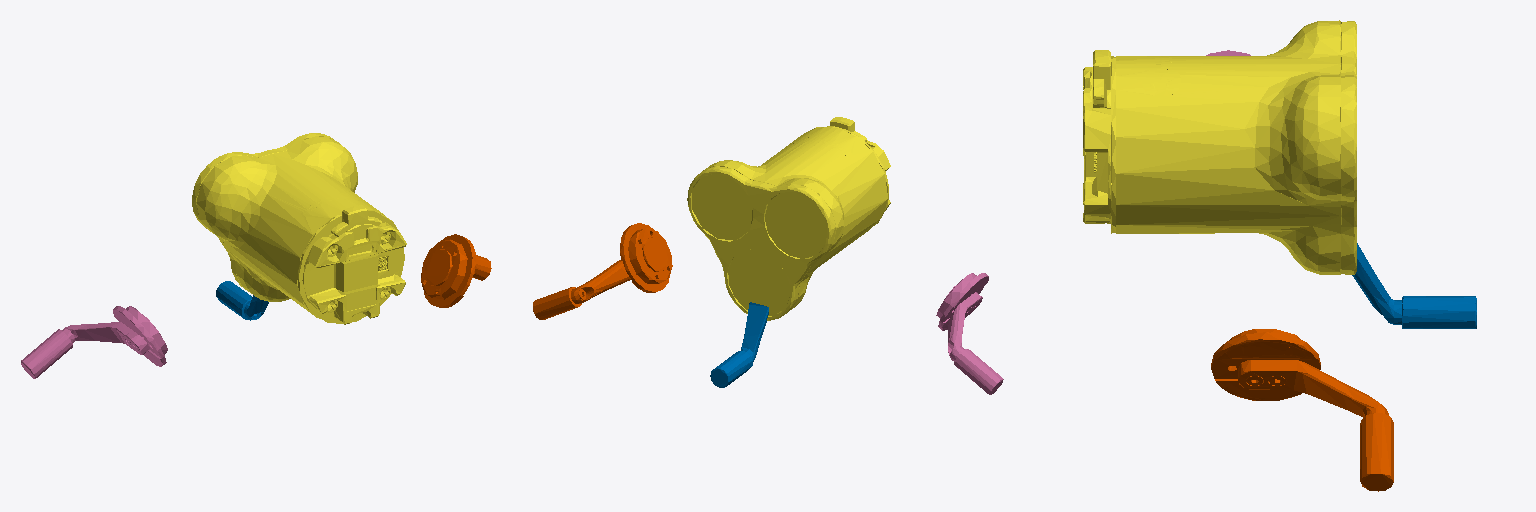
The robot description file, URDF, robot "ur5e":
<?xml version="1.0"?>
<robot name="ur5e">
    <transmission name="shoulder_pan_trans">
        <type>transmission_interface/SimpleTransmission</type>
        <joint name="shoulder_pan_joint">
            <hardwareInterface>hardware_interface/PositionJointInterface</hardwareInterface>
        </joint>
        <actuator name="shoulder_pan_motor">
            <mechanicalReduction>1</mechanicalReduction>
            <hardwareInterface>hardware_interface/EffortJointInterface</hardwareInterface>
        </actuator>
    </transmission>
    <transmission name="shoulder_lift_trans">
        <type>transmission_interface/SimpleTransmission</type>
        <joint name="shoulder_lift_joint">
            <hardwareInterface>hardware_interface/PositionJointInterface</hardwareInterface>
        </joint>
        <actuator name="shoulder_lift_motor">
            <mechanicalReduction>1</mechanicalReduction>
            <hardwareInterface>hardware_interface/EffortJointInterface</hardwareInterface>
        </actuator>
    </transmission>
    <transmission name="elbow_trans">
        <type>transmission_interface/SimpleTransmission</type>
        <joint name="elbow_joint">
            <hardwareInterface>hardware_interface/PositionJointInterface</hardwareInterface>
        </joint>
        <actuator name="elbow_motor">
            <mechanicalReduction>1</mechanicalReduction>
            <hardwareInterface>hardware_interface/EffortJointInterface</hardwareInterface>
        </actuator>
    </transmission>
    <transmission name="wrist_1_trans">
        <type>transmission_interface/SimpleTransmission</type>
        <joint name="wrist_1_joint">
            <hardwareInterface>hardware_interface/PositionJointInterface</hardwareInterface>
        </joint>
        <actuator name="wrist_1_motor">
            <mechanicalReduction>1</mechanicalReduction>
            <hardwareInterface>hardware_interface/EffortJointInterface</hardwareInterface>
        </actuator>
    </transmission>
    <transmission name="wrist_2_trans">
        <type>transmission_interface/SimpleTransmission</type>
        <joint name="wrist_2_joint">
            <hardwareInterface>hardware_interface/PositionJointInterface</hardwareInterface>
        </joint>
        <actuator name="wrist_2_motor">
            <mechanicalReduction>1</mechanicalReduction>
            <hardwareInterface>hardware_interface/EffortJointInterface</hardwareInterface>
        </actuator>
    </transmission>
    <transmission name="wrist_3_trans">
        <type>transmission_interface/SimpleTransmission</type>
        <joint name="wrist_3_joint">
            <hardwareInterface>hardware_interface/PositionJointInterface</hardwareInterface>
        </joint>
        <actuator name="wrist_3_motor">
            <mechanicalReduction>1</mechanicalReduction>
            <hardwareInterface>hardware_interface/EffortJointInterface</hardwareInterface>
        </actuator>
    </transmission>
    <!-- links: main serial chain -->
    <link name="world" />
    <joint name="virtual_joint" type="fixed">
        <parent link="world" />
        <child link="base_link" />
    </joint>
    <link name="base_link" />
    <link name="base_link_inertia">
        <visual>
            <origin rpy="0 0 3.141592653589793" xyz="0 0 0" />
            <geometry>
                <mesh filename="package://ur5e_urdf/meshes/ur5e/visual/base.dae" />
            </geometry>
            <material name="LightGrey">
                <color rgba="0.7 0.7 0.7 1.0" />
            </material>
        </visual>
        <collision>
            <origin rpy="0 0 3.141592653589793" xyz="0 0 0" />
            <geometry>
                <mesh filename="package://ur5e_urdf/meshes/ur5e/collision/base.stl" />
            </geometry>
        </collision>
        <inertial>
            <mass value="4.0" />
            <origin rpy="0 0 0" xyz="0 0 0" />
            <inertia ixx="0.00443333156" ixy="0.0" ixz="0.0" iyy="0.00443333156" iyz="0.0"
                izz="0.0072" />
        </inertial>
    </link>
    <link name="shoulder_link">
        <visual>
            <origin rpy="0 0 3.141592653589793" xyz="0 0 0" />
            <geometry>
                <mesh filename="package://ur5e_urdf/meshes/ur5e/visual/shoulder.dae" />
            </geometry>
            <material name="LightGrey">
                <color rgba="0.7 0.7 0.7 1.0" />
            </material>
        </visual>
        <collision>
            <origin rpy="0 0 3.141592653589793" xyz="0 0 0" />
            <geometry>
                <mesh filename="package://ur5e_urdf/meshes/ur5e/collision/shoulder.stl" />
            </geometry>
        </collision>
        <inertial>
            <mass value="3.7" />
            <origin rpy="0 0 0" xyz="0 0 0" />
            <inertia ixx="0.010267495893" ixy="0.0" ixz="0.0" iyy="0.010267495893" iyz="0.0"
                izz="0.00666" />
        </inertial>
    </link>

    <link name="upper_arm_link">
        <visual>
            <origin rpy="1.5707963267948966 0 -1.5707963267948966" xyz="0 0 0.138" />
            <geometry>
                <mesh filename="package://ur5e_urdf/meshes/ur5e/visual/upperarm.dae" />
            </geometry>
            <material name="LightGrey">
                <color rgba="0.7 0.7 0.7 1.0" />
            </material>
        </visual>
        <collision>
            <origin rpy="1.5707963267948966 0 -1.5707963267948966" xyz="0 0 0.138" />
            <geometry>
                <mesh filename="package://ur5e_urdf/meshes/ur5e/collision/upperarm.stl" />
            </geometry>
        </collision>
        <inertial>
            <mass value="8.393" />
            <origin rpy="0 1.5707963267948966 0" xyz="-0.2125 0.0 0.138" />
            <inertia ixx="0.1338857818623325" ixy="0.0" ixz="0.0" iyy="0.1338857818623325" iyz="0.0"
                izz="0.0151074" />
        </inertial>
    </link>

    <link name="forearm_link">
        <visual>
            <origin rpy="1.5707963267948966 0 -1.5707963267948966" xyz="0 0 0.007" />
            <geometry>
                <mesh filename="package://ur5e_urdf/meshes/ur5e/visual/forearm.dae" />
            </geometry>
            <material name="LightGrey">
                <color rgba="0.7 0.7 0.7 1.0" />
            </material>
        </visual>
        <collision>
            <origin rpy="1.5707963267948966 0 -1.5707963267948966" xyz="0 0 0.007" />
            <geometry>
                <mesh filename="package://ur5e_urdf/meshes/ur5e/collision/forearm.stl" />
            </geometry>
        </collision>
        <inertial>
            <mass value="2.275" />
            <origin rpy="0 1.5707963267948966 0" xyz="-0.1961 0.0 0.007" />
            <inertia ixx="0.031209355099586295" ixy="0.0" ixz="0.0" iyy="0.031209355099586295"
                iyz="0.0" izz="0.004095" />
        </inertial>
    </link>
    <link name="wrist_1_link">
        <visual>
            <!-- TODO: Move this to a parameter -->
            <origin rpy="1.5707963267948966 0 0" xyz="0 0 -0.127" />
            <geometry>
                <mesh filename="package://ur5e_urdf/meshes/ur5e/visual/wrist1.dae" />
            </geometry>
            <material name="LightGrey">
                <color rgba="0.7 0.7 0.7 1.0" />
            </material>
        </visual>
        <collision>
            <origin rpy="1.5707963267948966 0 0" xyz="0 0 -0.127" />
            <geometry>
                <mesh filename="package://ur5e_urdf/meshes/ur5e/collision/wrist1.stl" />
            </geometry>
        </collision>
        <inertial>
            <mass value="1.219" />
            <origin rpy="0 0 0" xyz="0 0 0" />
            <inertia ixx="0.0025598989760400002" ixy="0.0" ixz="0.0" iyy="0.0025598989760400002"
                iyz="0.0" izz="0.0021942" />
        </inertial>
    </link>
    <link name="wrist_2_link">
        <visual>
            <origin rpy="0 0 0" xyz="0 0 -0.0997" />
            <geometry>
                <mesh filename="package://ur5e_urdf/meshes/ur5e/visual/wrist2.dae" />
            </geometry>
            <material name="LightGrey">
                <color rgba="0.7 0.7 0.7 1.0" />
            </material>
        </visual>
        <collision>
            <origin rpy="0 0 0" xyz="0 0 -0.0997" />
            <geometry>
                <mesh filename="package://ur5e_urdf/meshes/ur5e/collision/wrist2.stl" />
            </geometry>
        </collision>
        <inertial>
            <mass value="1.219" />
            <origin rpy="0 0 0" xyz="0 0 0" />
            <inertia ixx="0.0025598989760400002" ixy="0.0" ixz="0.0" iyy="0.0025598989760400002"
                iyz="0.0" izz="0.0021942" />
        </inertial>
    </link>
    <link name="wrist_3_link">
        <visual>
            <origin rpy="1.5707963267948966 0 0" xyz="0 0 -0.0989" />
            <geometry>
                <mesh filename="package://ur5e_urdf/meshes/ur5e/visual/wrist3.dae" />
            </geometry>
            <material name="LightGrey">
                <color rgba="0.7 0.7 0.7 1.0" />
            </material>
        </visual>
        <collision>
            <origin rpy="1.5707963267948966 0 0" xyz="0 0 -0.0989" />
            <geometry>
                <mesh filename="package://ur5e_urdf/meshes/ur5e/collision/wrist3.stl" />
            </geometry>
        </collision>
        <inertial>
            <mass value="0.1879" />
            <origin rpy="0 0 0" xyz="0.0 0.0 -0.0229" />
            <inertia ixx="9.890410052167731e-05" ixy="0.0" ixz="0.0" iyy="9.890410052167731e-05"
                iyz="0.0" izz="0.0001321171875" />
        </inertial>
    </link>
    <!-- joints: main serial chain -->
    <joint name="base_link-base_link_inertia" type="fixed">
        <parent link="base_link" />
        <child link="base_link_inertia" />
        <!-- 'base_link' is REP-103 aligned (so X+ forward), while the internal
           frames of
        the robot/controller have X+ pointing backwards.
           Use the joint between
        'base_link' and 'base_link_inertia' (a dummy
           link/frame) to introduce the
        necessary rotation over Z (of pi rad).
      -->
        <origin rpy="0 0 3.141592653589793" xyz="0 0 0" />
    </joint>
    <joint name="shoulder_pan_joint" type="revolute">
        <parent link="base_link_inertia" />
        <child link="shoulder_link" />
        <origin rpy="0 0 0" xyz="0 0 0.1625" />
        <axis xyz="0 0 1" />
        <limit effort="150.0" lower="-6.283185307179586" upper="6.283185307179586"
            velocity="3.141592653589793" />
        <dynamics damping="0" friction="0" />
    </joint>
    <joint name="shoulder_lift_joint" type="revolute">
        <parent link="shoulder_link" />
        <child link="upper_arm_link" />
        <origin rpy="1.570796327 0 0 " xyz="0 0 0" />
        <axis xyz="0 0 1" />
        <limit effort="150.0" lower="-6.283185307179586" upper="6.283185307179586"
            velocity="3.141592653589793" />
        <dynamics damping="0" friction="0" />
    </joint>
    <joint name="elbow_joint" type="revolute">
        <parent link="upper_arm_link" />
        <child link="forearm_link" />
        <origin rpy="0 0 0" xyz="-0.425 0 0" />
        <axis xyz="0 0 1" />
        <limit effort="150.0" lower="-6.283185307179586" upper="6.283185307179586"
            velocity="3.141592653589793" />
        <dynamics damping="0" friction="0" />
    </joint>
    <joint name="wrist_1_joint" type="revolute">
        <parent link="forearm_link" />
        <child link="wrist_1_link" />
        <origin rpy="0 0 0" xyz="-0.3922 0 0.1333" />
        <axis xyz="0 0 1" />
        <limit effort="28.0" lower="-6.283185307179586" upper="6.283185307179586"
            velocity="3.141592653589793" />
        <dynamics damping="0" friction="0" />
    </joint>
    <joint name="wrist_2_joint" type="revolute">
        <parent link="wrist_1_link" />
        <child link="wrist_2_link" />
        <origin rpy="1.570796327 0 0" xyz="0 -0.0997 -2.044881182297852e-11" />
        <axis xyz="0 0 1" />
        <limit effort="28.0" lower="-6.283185307179586" upper="6.283185307179586"
            velocity="3.141592653589793" />
        <dynamics damping="0" friction="0" />
    </joint>
    <joint name="wrist_3_joint" type="revolute">
        <parent link="wrist_2_link" />
        <child link="wrist_3_link" />
        <origin rpy="1.570796326589793 3.141592653589793 3.141592653589793"
            xyz="0 0.0996 -2.042830148012698e-11" />
        <axis xyz="0 0 1" />
        <limit effort="28.0" lower="-6.283185307179586" upper="6.283185307179586"
            velocity="3.141592653589793" />
        <dynamics damping="0" friction="0" />
    </joint>
    <!-- ROS-Industrial 'base' frame: base_link to UR 'Base' Coordinates transform -->
    <link name="base" />
    <joint name="base_link-base_fixed_joint" type="fixed">
        <!-- Note the rotation over Z of pi radians: as base_link is REP-103
           aligned (ie:
        has X+ forward, Y+ left and Z+ up), this is needed
           to correctly align 'base' with
        the 'Base' coordinate system of
           the UR controller.
      -->
        <origin rpy="0 0 3.141592653589793" xyz="0 0 0" />
        <parent link="base_link" />
        <child link="base" />
    </joint>



    <joint name="gripper_hanging" type="fixed">
        <origin xyz="0 0 0.0" rpy="0 0 0" />
        <parent link="wrist_3_link" />
        <child link="gripper_base" />
    </joint>
    
    <link name="gripper_base">
        <visual>
            <origin xyz="0.2275 0 0 " rpy="-1.570796327 0 0" />
            <geometry>
                <mesh filename="package://ur5e_urdf/meshes/ur5e/collision/gripper_base_up.stl"
                    scale="0.001 0.001 0.001" />
            </geometry>
        </visual>
        <collision>
            <origin xyz="0.2275 0 0" rpy="-1.570796327 0 0" />
            <geometry>
                <mesh filename="package://ur5e_urdf/meshes/ur5e/collision/gripper_base_up.stl"
                    scale="0.001 0.001 0.001" />
            </geometry>
        </collision>
    </link>
    
    
    <joint name="flange" type="fixed">
        <origin xyz="0 0 0.06" rpy="0 0 0" />
        <parent link="gripper_base" />
        <child link="gripper_base_down" />
    </joint>

    <link name="gripper_base_down">
        <visual>
            <origin xyz="0 0 0" rpy="-1.570796327 0 0" />
            <geometry>
                <mesh filename="package://ur5e_urdf/meshes/ur5e/collision/gripper_base_down2.stl"
                    scale="0.001 0.001 0.001" />
            </geometry>
        </visual>
        <collision>
            <origin xyz="0 0 0" rpy="-1.570796327 0 0" />
            <geometry>
                <mesh filename="package://ur5e_urdf/meshes/ur5e/collision/gripper_base_down2.stl"
                    scale="0.001 0.001 0.001" />
            </geometry>
        </collision>
    </link>
<!--###########################################-->
    <joint name="finger1_joint" type="revolute">
        <origin xyz="0.0  0.00 0.0 " rpy="-1.570796327 0 0"/>
        <parent link="gripper_base" />
        <child link="finger1_link" />
        <limit effort="50" velocity="10.0" lower="0" upper="3.14" />
    </joint>
    
    <link name="finger1_link">
        <inertial>
            <origin xyz="0.0 0.0 0.0" />
            <mass value="0.05" />
            <inertia ixx="0.001" ixy="0.0" ixz="0.0" iyy="0.001" iyz="0.0" izz="0.001" />
        </inertial>
        <visual>
            <origin xyz="0 -0.05 0.0 " rpy="0 0 0"/>
            <geometry>
                <mesh filename="package://ur5e_urdf/meshes/ur5e/collision/finger2.stl"
                    scale="0.001 0.001 0.001" />
            </geometry>
        </visual>
        <collision>
            <origin xyz="0 -0.05 0.00 " rpy="0 0 0"/>
            <geometry>
                <mesh filename="package://ur5e_urdf/meshes/ur5e/collision/finger2.stl"
                    scale="0.001 0.001 0.001" />
            </geometry>
        </collision>
    </link>
<!--###########################################-->
    <joint name="finger2_joint" type="revolute">
        <origin xyz="-0.012 0.0 0.015" rpy="-1.570796327 0 2.094"/>
        <!--<origin xyz="-0.013 0 0.015" rpy="-1.570796327 0 2.094"/>-->
        <parent link="gripper_base" />
        <child link="finger2_link" />
        <limit effort="50" velocity="10.0" lower="0" upper="3.14" />
    </joint>
    
    <link name="finger2_link">
        <inertial>
            <origin xyz="0.0 0.0 0.0" />
            <mass value="0.05" />
            <inertia ixx="0.001" ixy="0.0" ixz="0.0" iyy="0.001" iyz="0.0" izz="0.001" />
        </inertial>
        <visual>
            <origin xyz="0.0 -0.03 0.05" rpy="-1.570796327 0 0"/>
            <geometry>
                <mesh filename="package://ur5e_urdf/meshes/ur5e/collision/finger2.stl"
                    scale="0.001 0.001 0.001" />
            </geometry>
        </visual>
        <collision>
            <origin xyz="0.0 -0.03 0.05" rpy="-1.570796327 0 0"/>
            <geometry>
                <mesh filename="package://ur5e_urdf/meshes/ur5e/collision/finger2.stl"
                    scale="0.001 0.001 0.001" />
            </geometry>
        </collision>
    </link>
<!--###########################################-->
    <joint name="finger3_joint" type="revolute">
        <origin xyz="0.02598 0.015 0.0" rpy="-1.570796327 0 -2.094"/>
        <!--<origin xyz="-0.013 0 0.015" rpy="-1.570796327 0 -2.094"/>-->
        <parent link="gripper_base" />
        <child link="finger3_link" />
        <limit effort="50" velocity="10.0" lower="0" upper="3.14" />
    </joint>
    
    <link name="finger3_link">
        <inertial>
            <origin xyz="0.0 0.0 0.0" />
            <mass value="0.05" />
            <inertia ixx="0.001" ixy="0.0" ixz="0.0" iyy="0.001" iyz="0.0" izz="0.001" />
        </inertial>
        <visual>
            <origin xyz="0.0 -0.03 0.05" rpy="-1.570796327 0 0"/>
            <geometry>
                <mesh filename="package://ur5e_urdf/meshes/ur5e/collision/finger2.stl"
                    scale="0.001 0.001 0.001" />
            </geometry>
        </visual>
        <collision>
            <origin xyz="0.0 -0.03 0.05" rpy="-1.570796327 0 0"/>
            <geometry>
                <mesh filename="package://ur5e_urdf/meshes/ur5e/collision/finger2.stl"
                    scale="0.001 0.001 0.001" />
            </geometry>
        </collision>
    </link>




























    <!-- TRANSMISSION
    <transmission name="finger_joint_trans">
        <type>transmission_interface/SimpleTransmission</type>
        <joint name="finger_joint">
            <hardwareInterface>${hw_interface}</hardwareInterface>
        </joint>
        <actuator name="finger_joint_pan_motor">
            <mechanicalReduction>1</mechanicalReduction>
        </actuator>
    </transmission> -->
</robot>

--- Facts derived from the render (not from the file) ---
3 views of the same robot in one strip: view 1: azimuth 30°, elevation 25°; view 2: azimuth 150°, elevation 25°; view 3: azimuth 270°, elevation 25° (orthographic).
Model ur5e with 15 links and 14 joints (9 revolute, 5 fixed), rooted at world, posed every joint at zero.
Visible links, largest first — view 1: gripper_base_down, finger3_link, finger2_link, finger1_link; view 2: gripper_base_down, finger2_link, finger3_link, finger1_link; view 3: gripper_base_down, finger2_link, finger1_link.
Link boxes in pixels (x1,y1,x2,y2): gripper_base_down: [192, 133, 406, 324]; finger3_link: [21, 306, 167, 378]; finger2_link: [421, 234, 491, 307]; finger1_link: [216, 281, 268, 320]; gripper_base_down: [687, 117, 890, 320]; finger2_link: [533, 223, 672, 319]; finger3_link: [936, 273, 1003, 394]; finger1_link: [710, 302, 768, 387]; gripper_base_down: [1083, 20, 1356, 274]; finger2_link: [1211, 329, 1393, 491]; finger1_link: [1352, 243, 1476, 328].
Size in the robot's own frame: 0.3202 by 0.1578 by 0.1254 metres.
4 mesh visuals loaded from 10 distinct referenced files (2 binary STL); not drawn: 8 (reference not matched to a file when rendering).